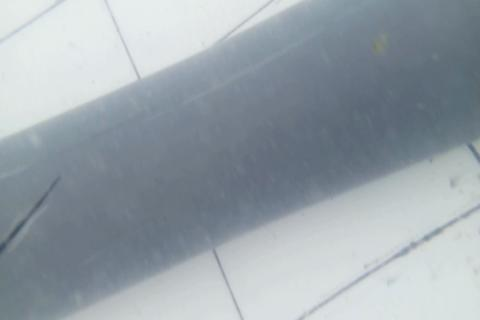keretakan: (0, 175, 62, 254)
